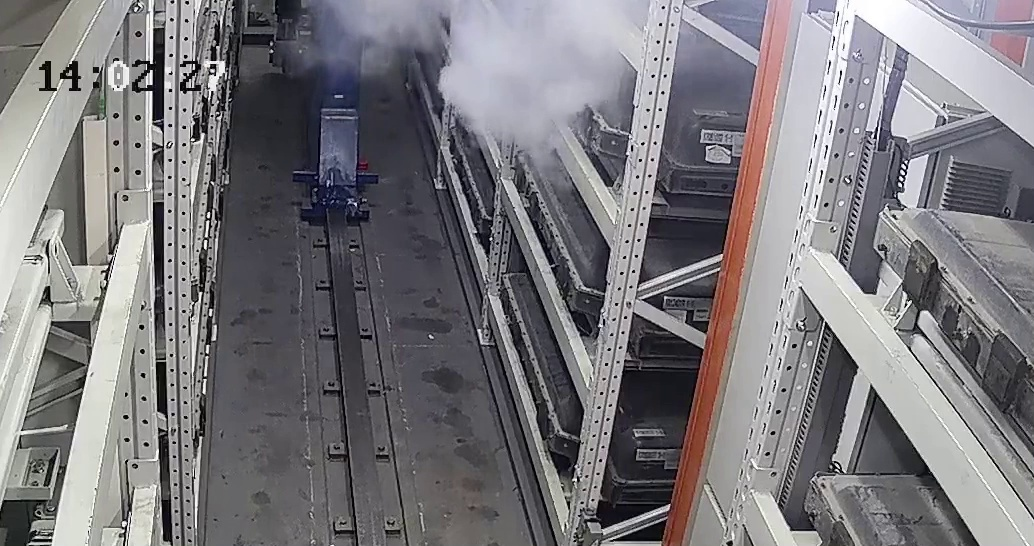smoke: (342, 7, 655, 132)
